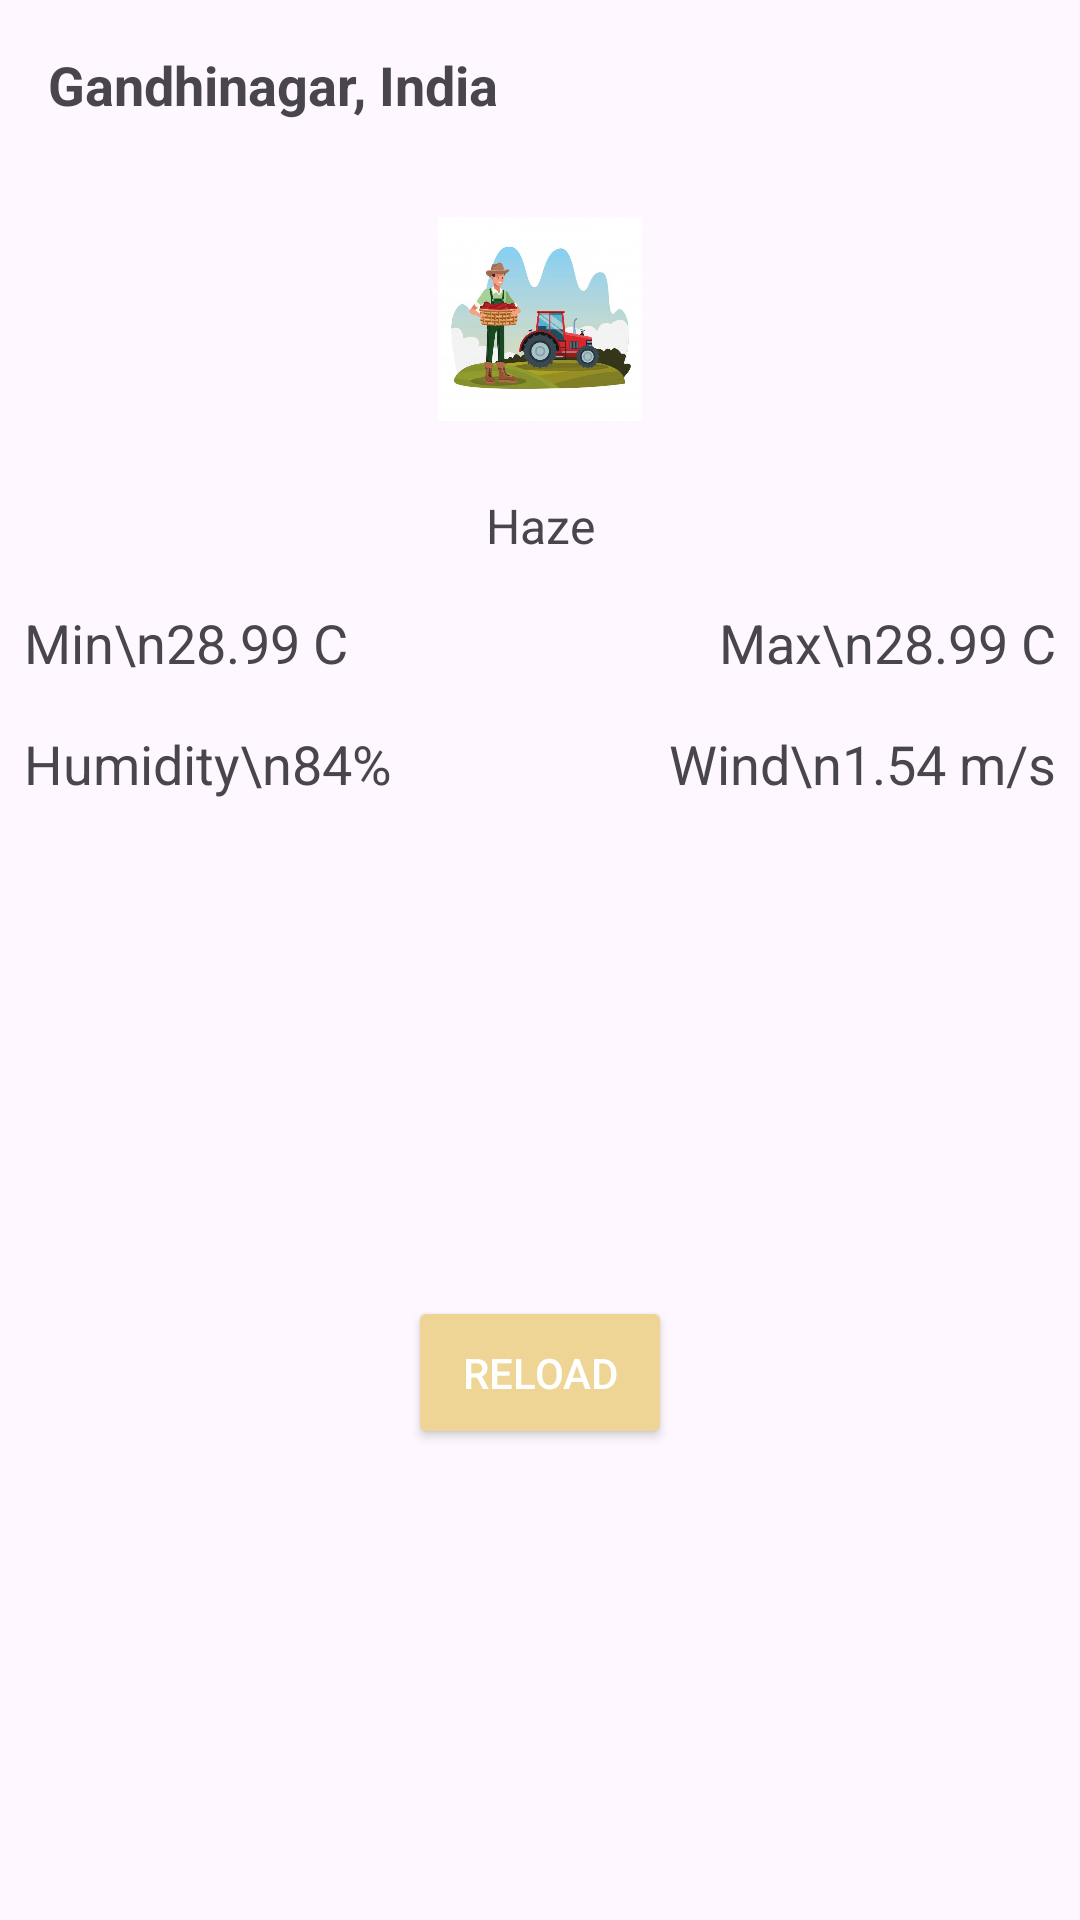

Where to tap for icons on this 1080*1920 app screen, as point (x, y):
falah: point (541, 318)
